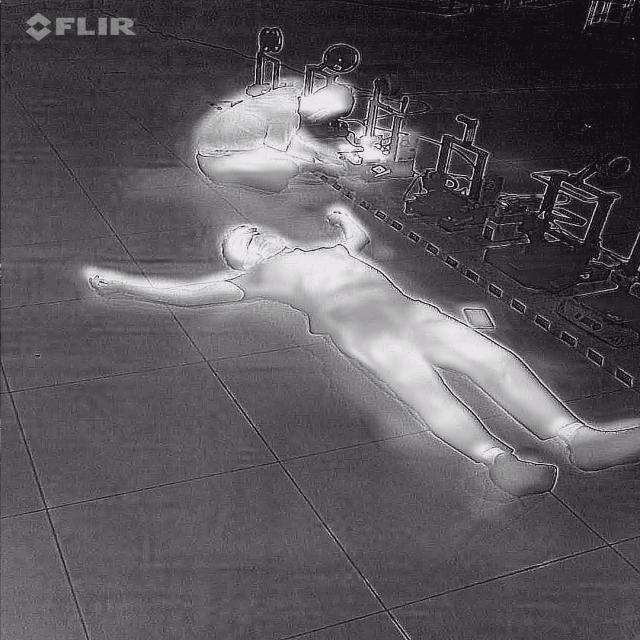Victim: (76, 206, 638, 501), (185, 77, 357, 198)
